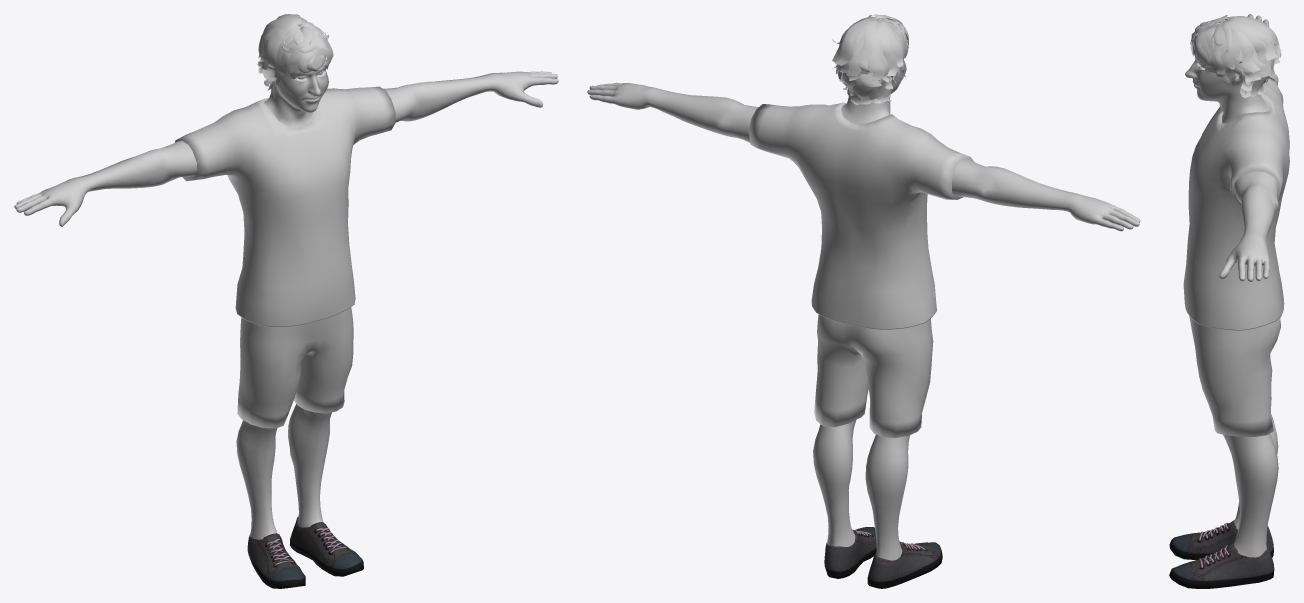
File: A_Casual.obj
3 renders of one model, left to right at view 1: azimuth 30°, elevation 25°; view 2: azimuth 150°, elevation 25°; view 3: azimuth 270°, elevation 25°, orthographic.
Visible parts, largest first — view 1: Tops, Body, Bottoms, Shoes, Hair; view 2: Tops, Body, Bottoms, Hair, Shoes; view 3: Tops, Body, Bottoms, Hair, Shoes.
Part boxes in pixels (x1,y1,x2,y2): Tops: (175, 86, 395, 327); Body: (14, 55, 558, 539); Bottoms: (237, 307, 353, 428); Shoes: (247, 516, 363, 588); Hair: (257, 14, 333, 90); Tops: (748, 102, 973, 329); Body: (587, 59, 1140, 560); Bottoms: (814, 314, 933, 437); Hair: (832, 14, 908, 104); Shoes: (824, 527, 942, 588); Tops: (1183, 77, 1289, 330); Body: (1185, 14, 1278, 557); Bottoms: (1189, 316, 1280, 436); Hair: (1190, 15, 1281, 97); Shoes: (1169, 520, 1274, 588).
Bounding box in the file's own units: 193 × 185 × 36.83.
